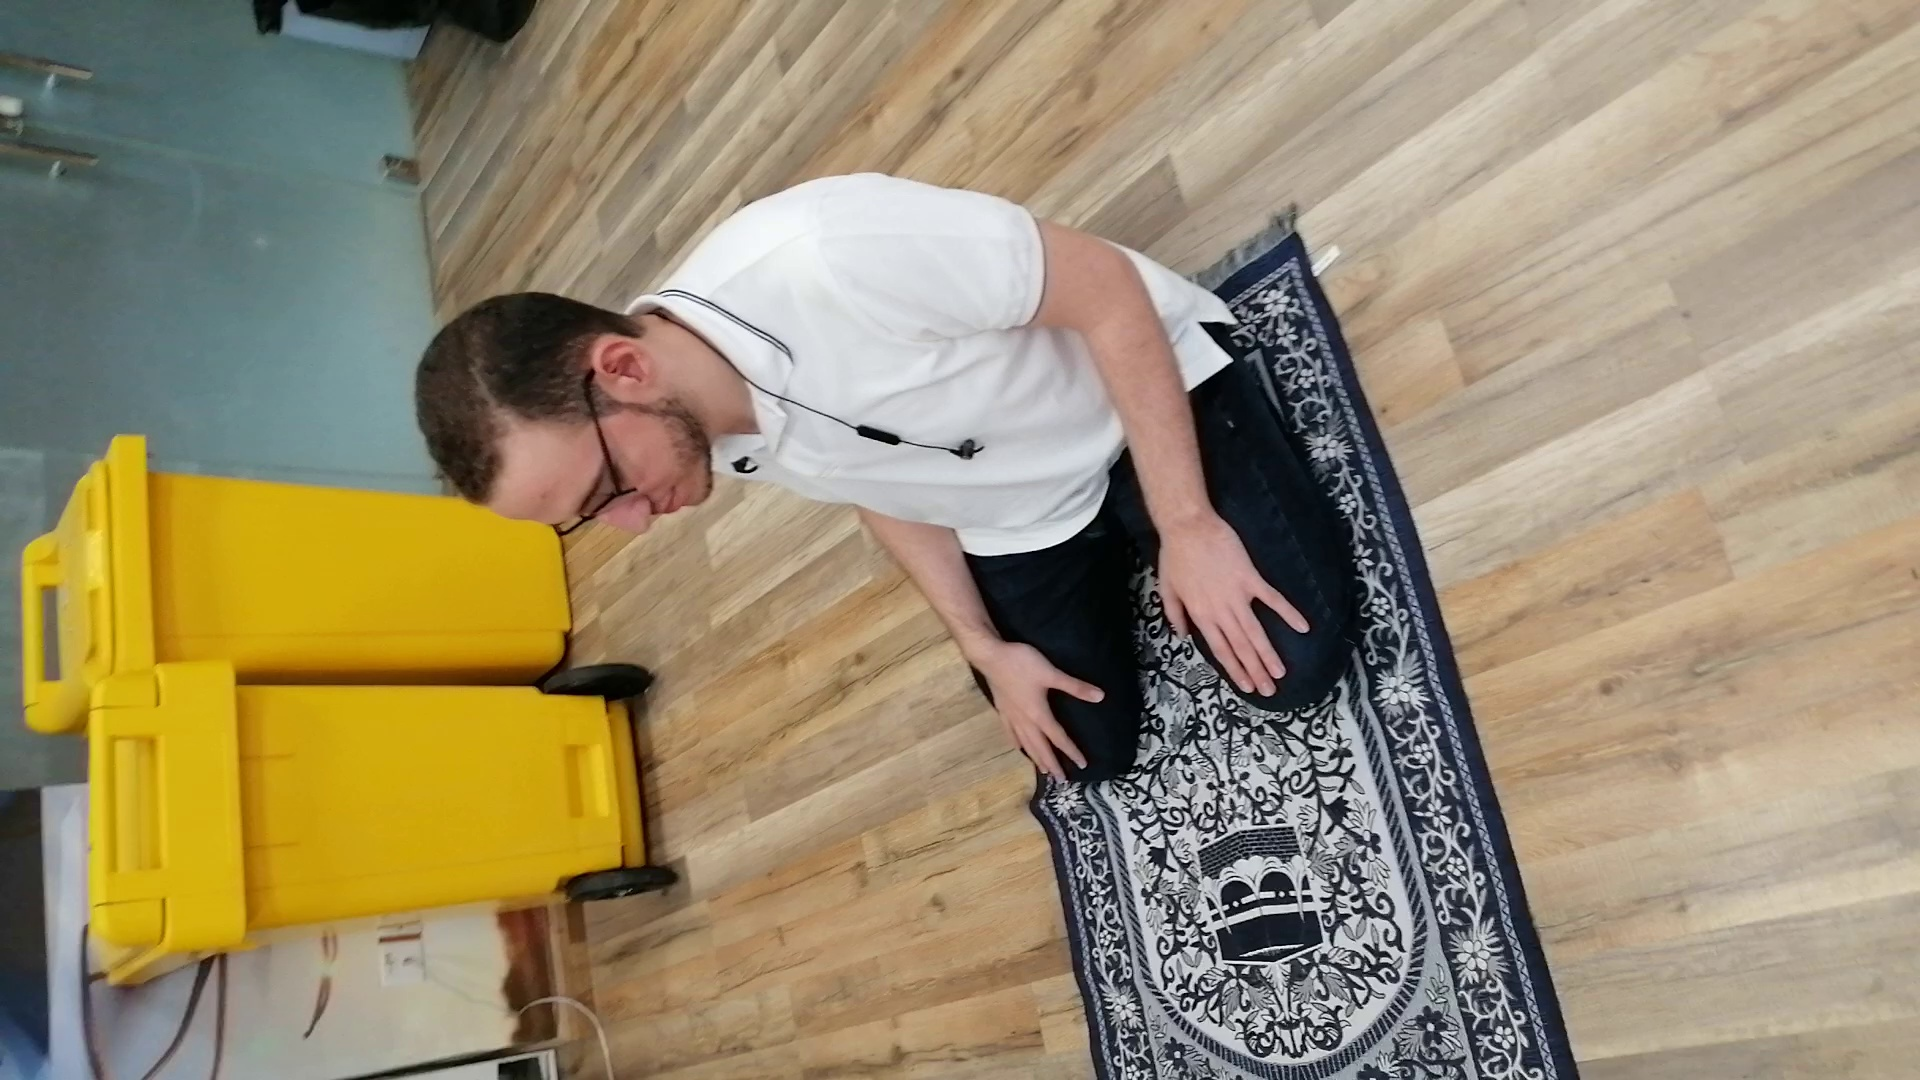sitting: (392, 157, 1378, 793)
